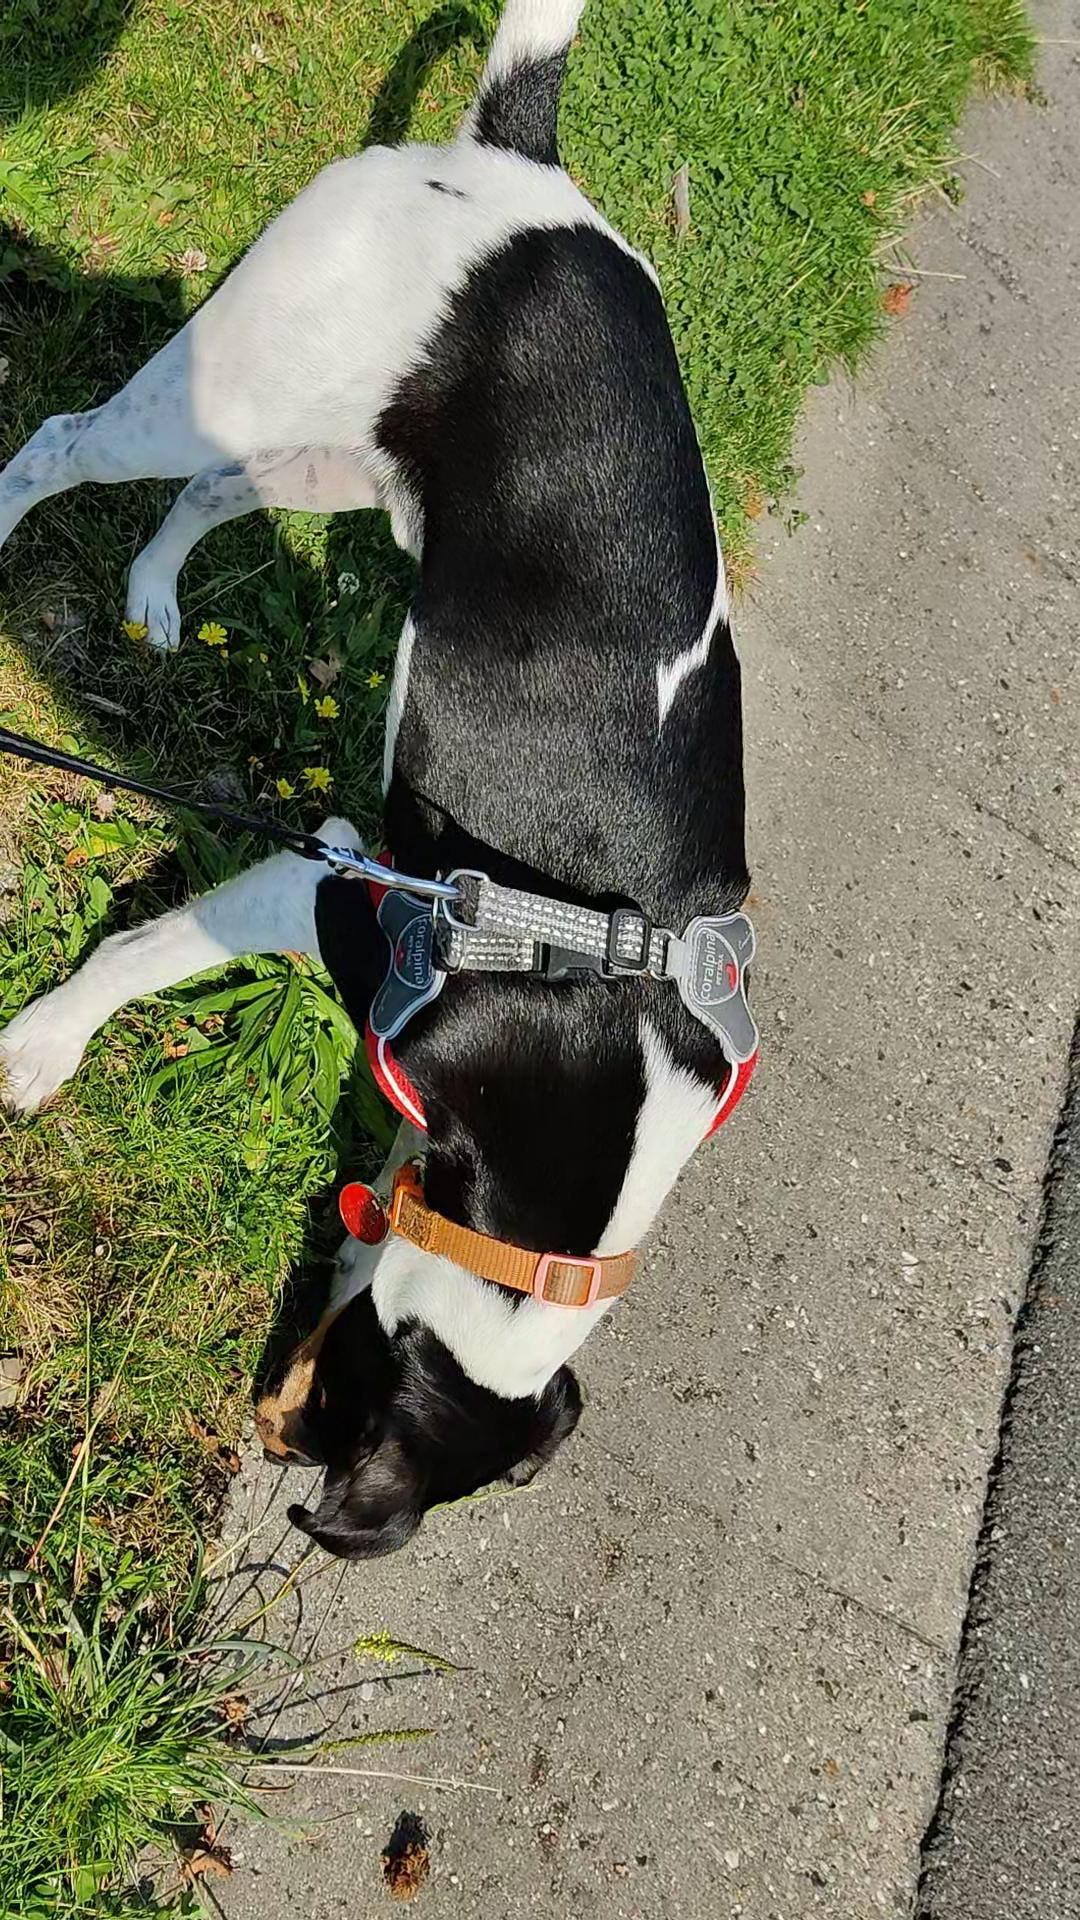Dog: (0, 0, 771, 1571)
